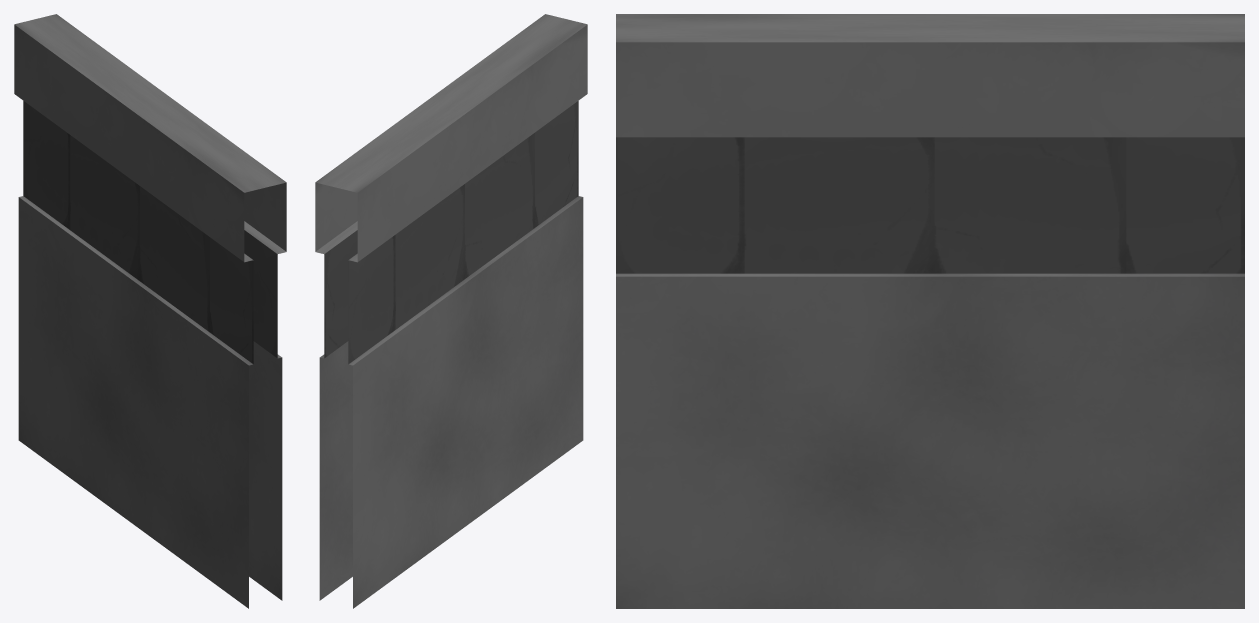
Rendered from murdeberlin.fbx.
The picture shows the model from 3 angles, left to right: view 1: azimuth 30°, elevation 25°; view 2: azimuth 150°, elevation 25°; view 3: azimuth 270°, elevation 25°; orthographic projection. The views are drawn at different scales.
Parts seen in each view (by area): view 1: Cube.047; view 2: Cube.047; view 3: Cube.047.
Part boxes in pixels (<box>): Cube.047: <box>14,14,286,608</box>; Cube.047: <box>315,14,587,608</box>; Cube.047: <box>616,14,1244,608</box>.
Size of the model in its own units: 128 by 1200 by 1200.
